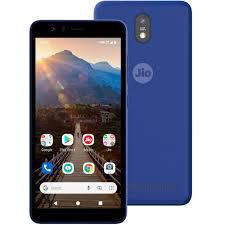Smartphone: (29, 19, 127, 219), (95, 3, 188, 207)
